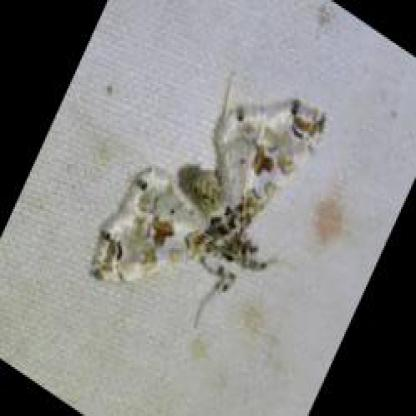leucinodes: (91, 101, 328, 287)
